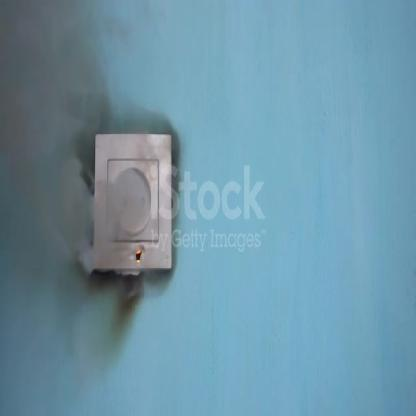smoke: (0, 0, 174, 289)
